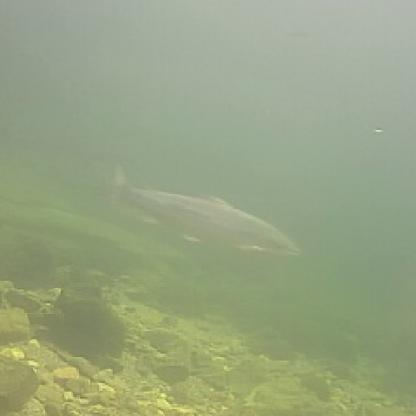salmon: (95, 153, 307, 260)
